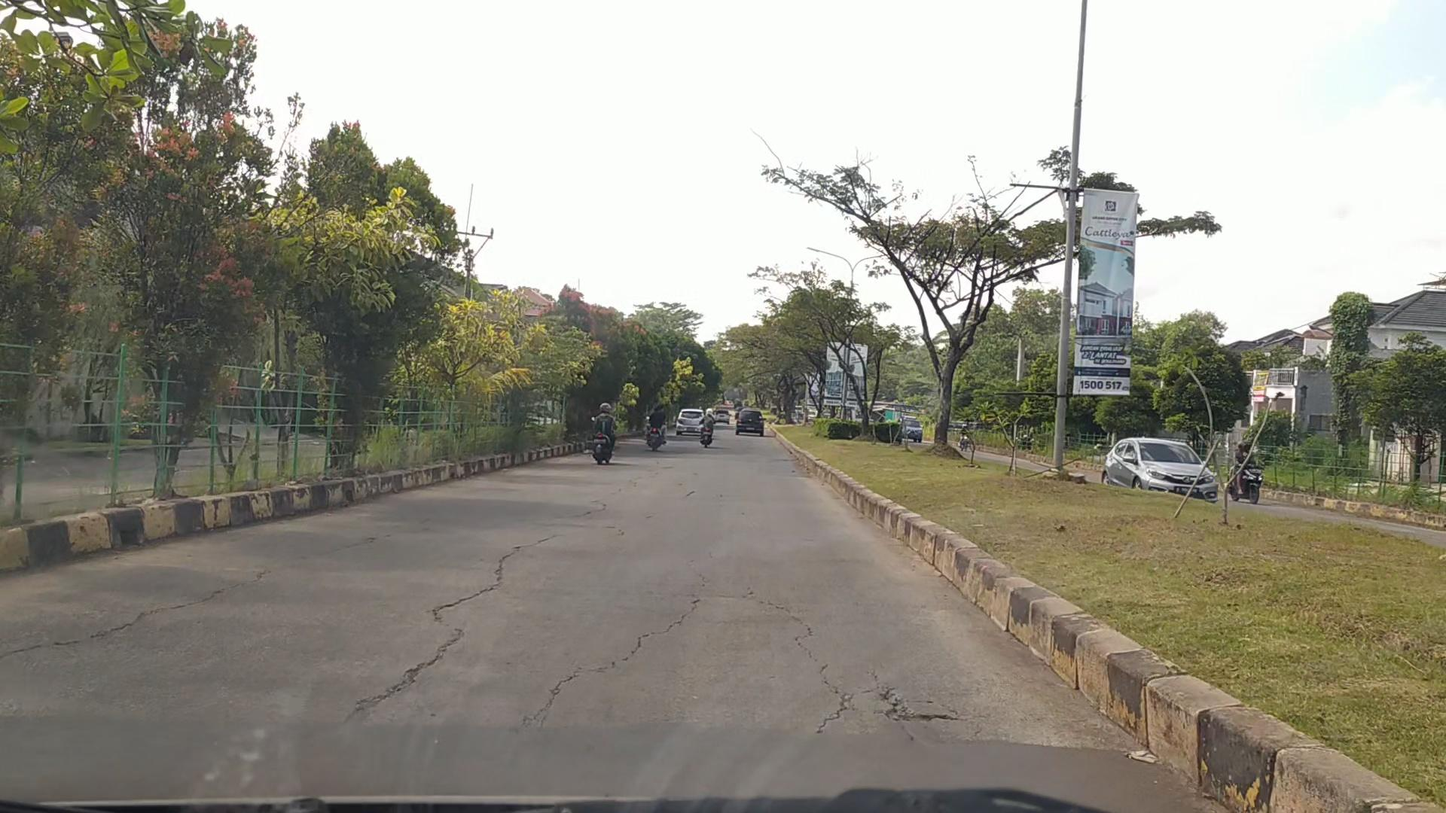pothole: (867, 681, 962, 723)
